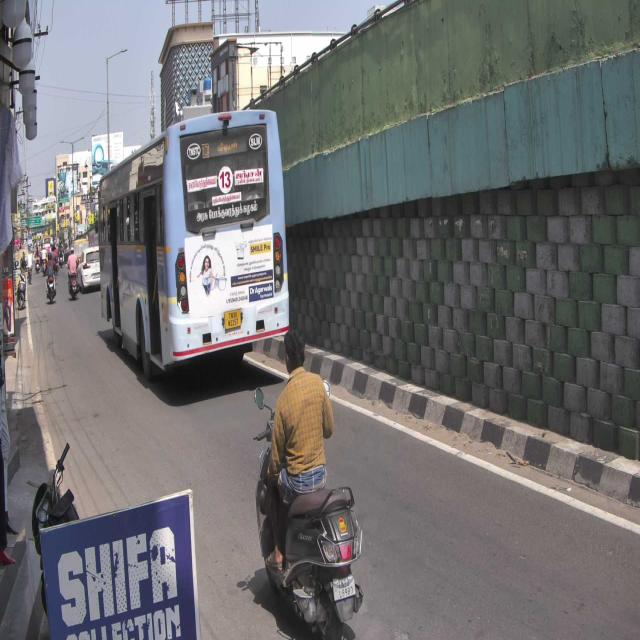single_rider: (253, 324, 365, 640)
